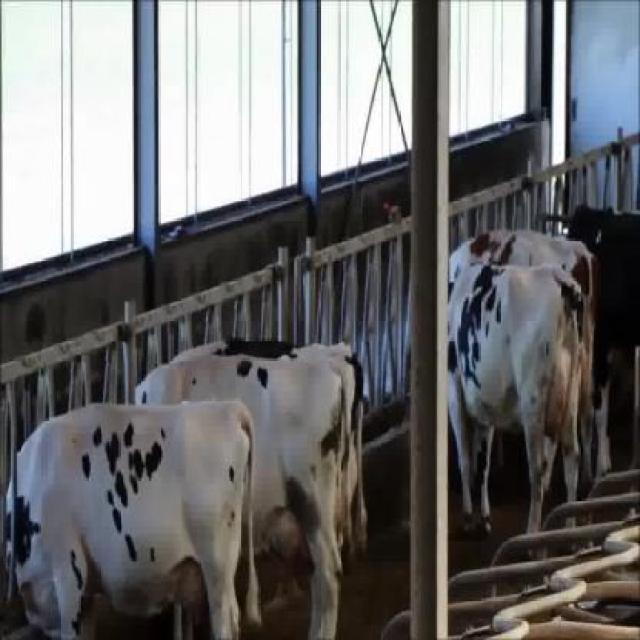Cow: (2, 398, 262, 638), (135, 354, 354, 638), (448, 258, 586, 557)
